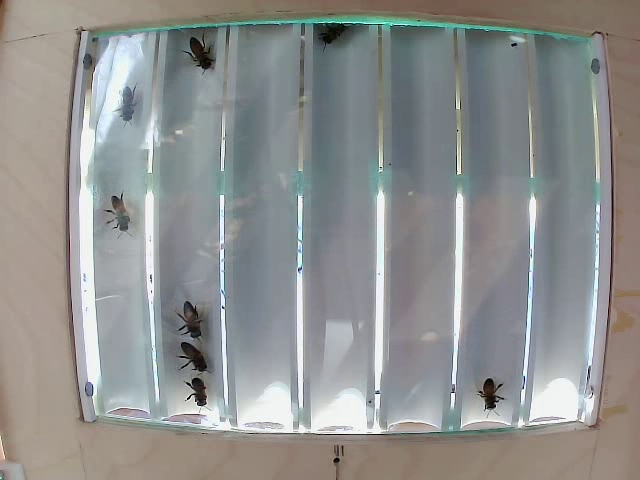bee: (185, 31, 219, 81), (104, 187, 139, 235), (105, 90, 153, 125), (171, 306, 204, 333), (175, 344, 204, 371), (180, 376, 210, 400)
